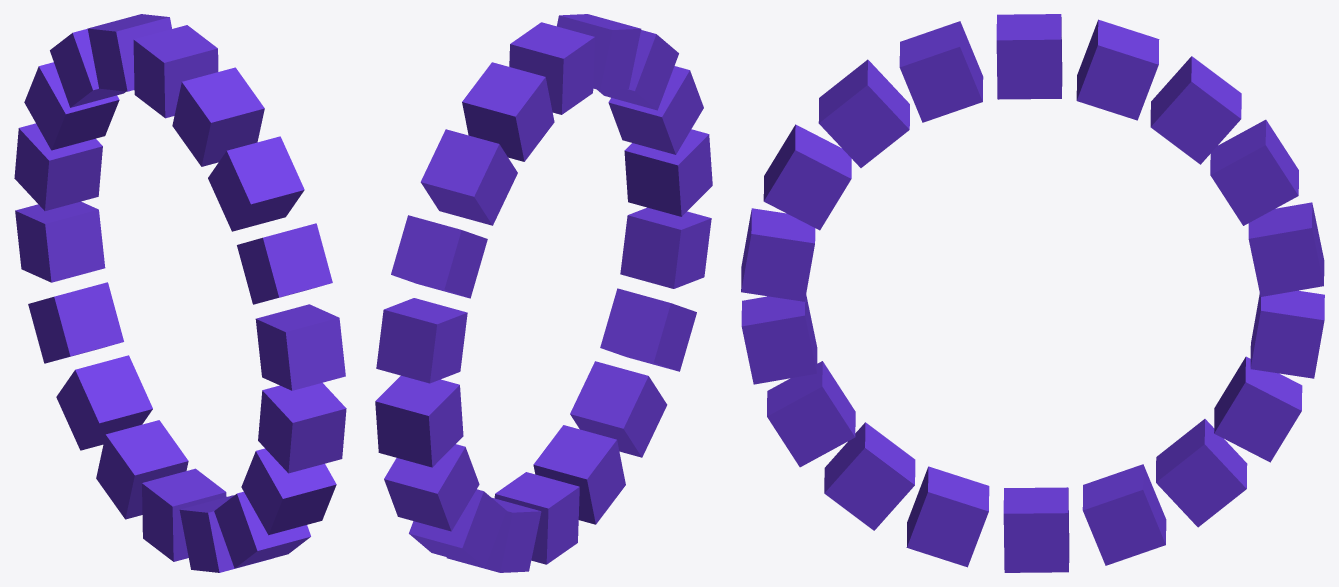
The picture shows the model from 3 angles, left to right: view 1: azimuth 30°, elevation 25°; view 2: azimuth 150°, elevation 25°; view 3: azimuth 270°, elevation 25°; orthographic projection. The views are drawn at different scales.
Parts seen in each view (by area): view 1: Cube; view 2: Cube; view 3: Cube.
Boxes of the visible parts, x1,y1,x2,y2 form: Cube: [14, 14, 346, 572]; Cube: [375, 14, 712, 572]; Cube: [741, 14, 1324, 572].
Size of the model in its own units: 250 by 1807 by 1810.
